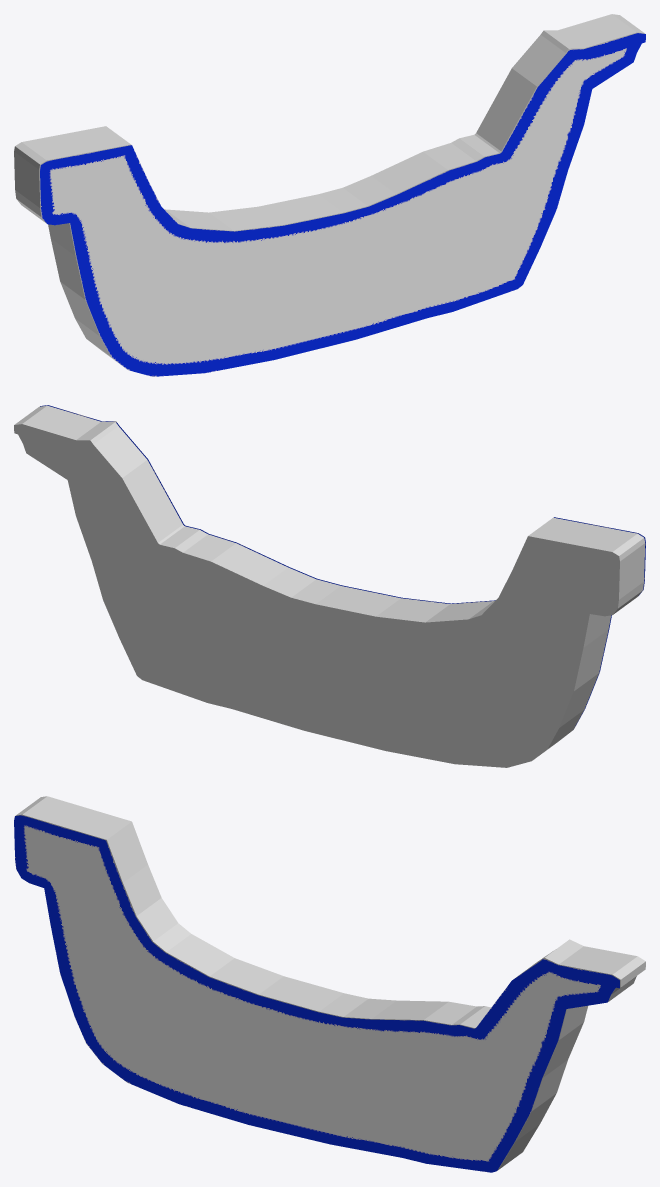
The picture shows the model from 3 angles, top to bottom: view 1: azimuth 30°, elevation 25°; view 2: azimuth 150°, elevation 25°; view 3: azimuth 330°, elevation 25°; orthographic projection.
Visible parts, largest first — view 1: In_5_1, In_5_0; view 2: In_5_0, In_5_1; view 3: In_5_1, In_5_0.
Boxes of the visible parts, x1,y1,x2,y2 form: In_5_1: (40, 33, 645, 376); In_5_0: (14, 14, 644, 368); In_5_0: (14, 405, 645, 767); In_5_1: (40, 405, 645, 729); In_5_1: (14, 815, 619, 1172); In_5_0: (15, 796, 645, 1170).
Size of the model in its own units: 6.95 by 2.79 by 0.515.
Materials: 2 (1 with a texture image).
